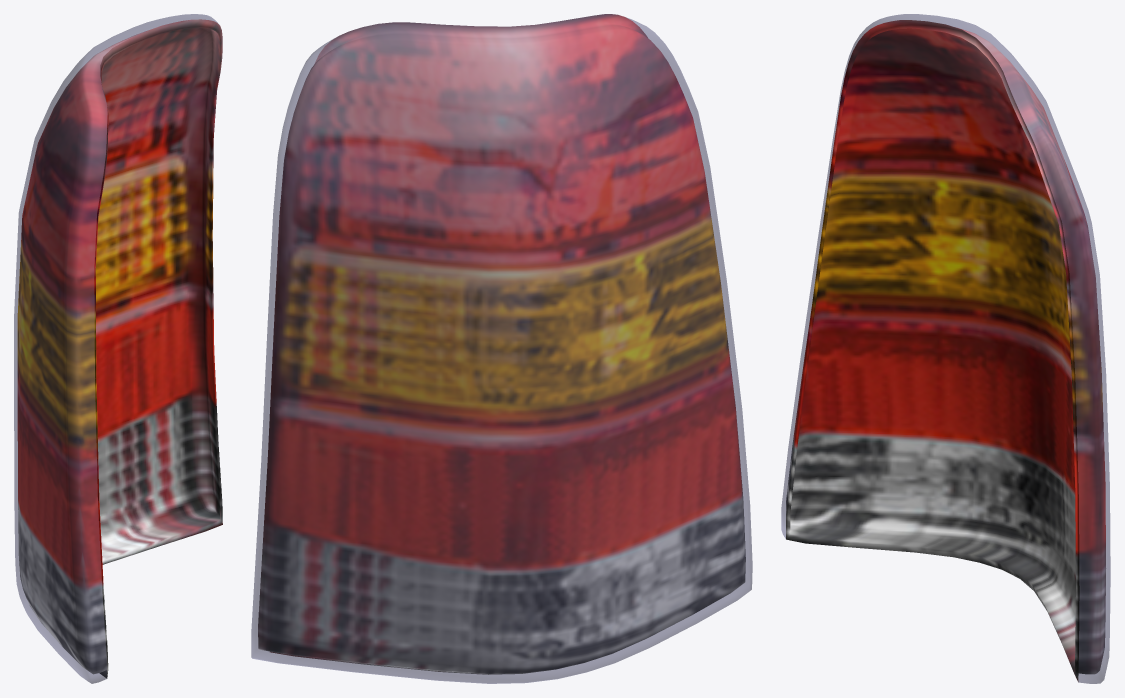
3 views of the same model, side by side, from view 1: azimuth 30°, elevation 25°; view 2: azimuth 150°, elevation 25°; view 3: azimuth 270°, elevation 25° (orthographic). The views are drawn at different scales.
Visible parts, largest first — view 1: P710_541C_L_1_N_P710_541C_L, P710_541C_L_P710_541C_L_2_DTaSI; view 2: P710_541C_L_P710_541C_L_2_DTaSI, P710_541C_L_1_N_P710_541C_L; view 3: P710_541C_L_1_N_P710_541C_L, P710_541C_L_P710_541C_L_2_DTaSI.
Part boxes in pixels (x1,y1,x2,y2): P710_541C_L_1_N_P710_541C_L: (17,19,222,678); P710_541C_L_P710_541C_L_2_DTaSI: (14,14,217,683); P710_541C_L_P710_541C_L_2_DTaSI: (251,14,752,683); P710_541C_L_1_N_P710_541C_L: (258,14,745,674); P710_541C_L_1_N_P710_541C_L: (785,20,1105,681); P710_541C_L_P710_541C_L_2_DTaSI: (781,14,1110,683).
Size of the model in its own units: 20.44 by 37.31 by 19.69.
